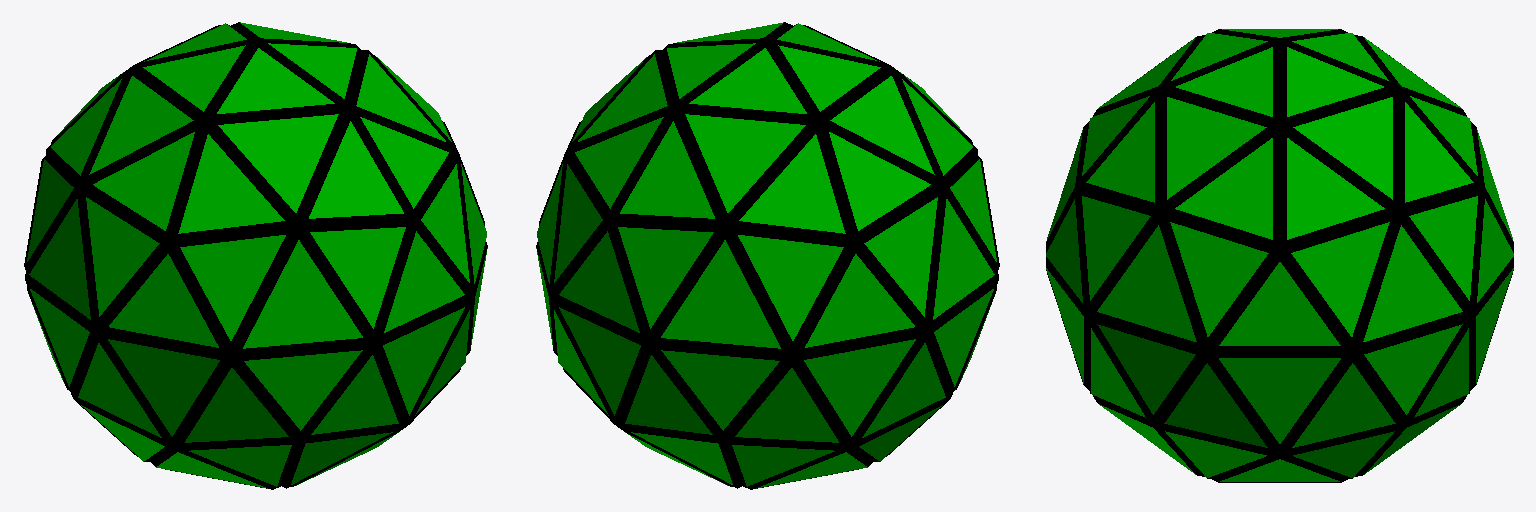
The model's file is GreenBiz.obj.
3 renders of one model, left to right at view 1: azimuth 30°, elevation 25°; view 2: azimuth 150°, elevation 25°; view 3: azimuth 270°, elevation 25°, orthographic.
Visible parts, largest first — view 1: Green; view 2: Green; view 3: Green.
Part boxes in pixels (x1,y1,x2,y2): Green: (24,22,487,489); Green: (536,22,999,489); Green: (1046,29,1513,482).
Size of the model in its own units: 1.95 by 2.02 by 2.01.